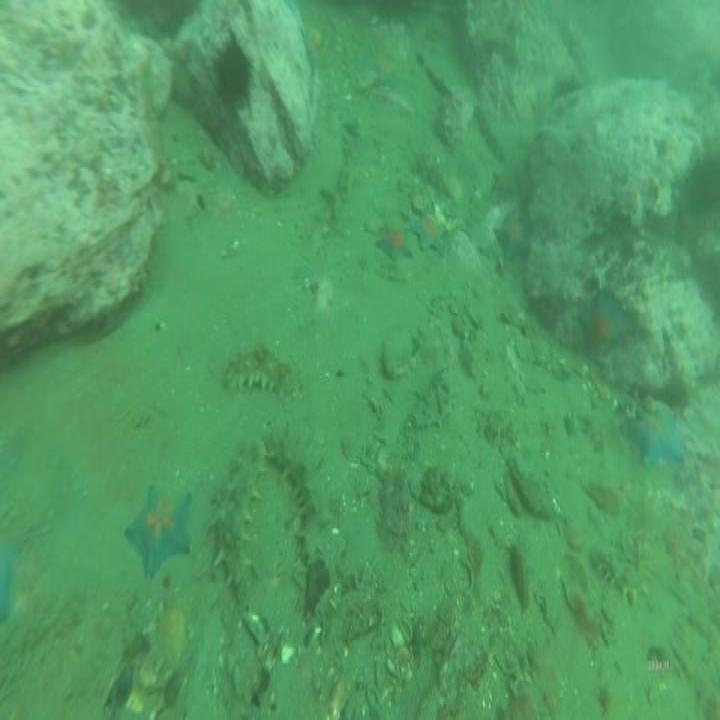echinus: (209, 25, 261, 117)
holothurian: (205, 437, 262, 614), (261, 423, 329, 533), (220, 345, 299, 407), (593, 534, 652, 612), (405, 357, 457, 427), (414, 142, 456, 204)
starfish: (124, 475, 194, 574), (616, 386, 684, 471), (581, 286, 634, 366), (494, 206, 538, 265), (409, 208, 453, 261), (295, 16, 329, 76), (378, 221, 413, 263)
